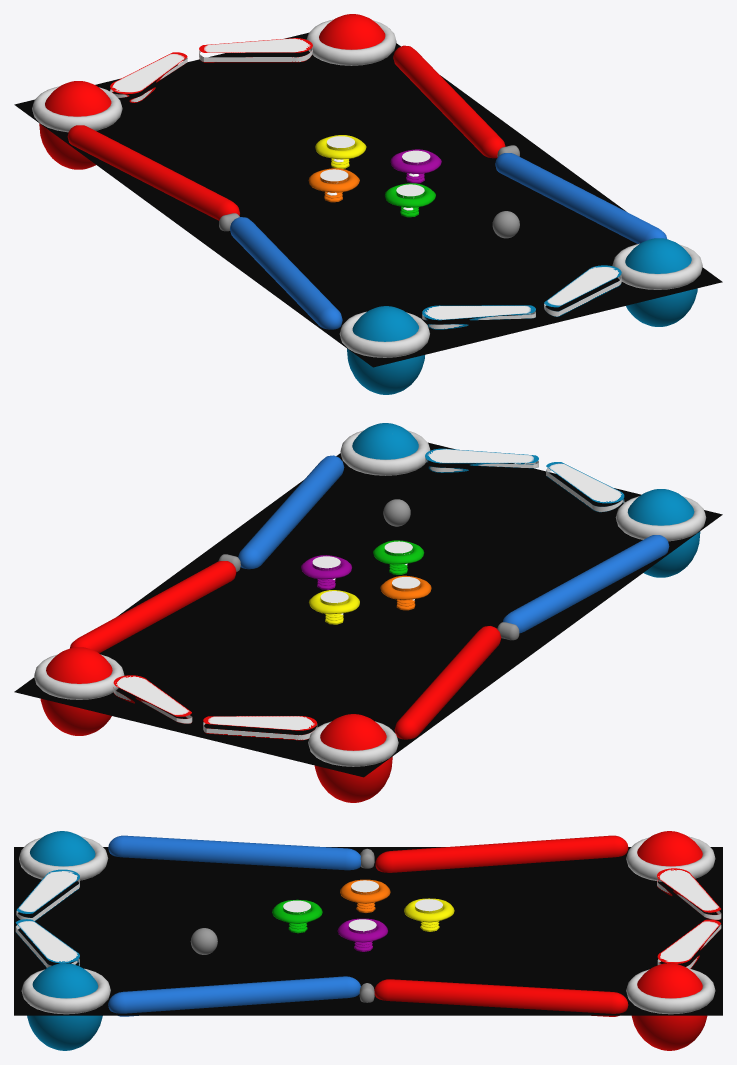
The model's file is Multi-Pinball Textures test.FBX.
The picture shows the model from 3 angles, top to bottom: view 1: azimuth 30°, elevation 25°; view 2: azimuth 150°, elevation 25°; view 3: azimuth 270°, elevation 25°; orthographic projection.
Parts seen in each view (by area): view 1: Plane003, Plane001, Plane002, Flipper Button Original008, Flipper Button Original007, Flipper Button Original006, Capsule003, Capsule001, Capsule002, Flipper Button Original005, Capsule004, Arc005 (+8 smaller); view 2: Plane003, Plane002, Plane001, Flipper Button Original006, Flipper Button Original005, Flipper Button Original008, Capsule002, Capsule004, Flipper Button Original007, Capsule003, Capsule001, Arc006 (+8 smaller); view 3: Plane003, Plane001, Plane002, Capsule004, Capsule001, Flipper Button Original007, Flipper Button Original005, Capsule002, Capsule003, Flipper Button Original008, Flipper Button Original006, Arc004 (+8 smaller).
Part boxes in pixels (left/top/right/bottom): Plane003: left=14, top=32, right=722, bottom=367; Plane001: left=376, top=234, right=593, bottom=309; Plane002: left=179, top=90, right=396, bottom=165; Flipper Button Original008: left=339, top=306, right=429, bottom=394; Flipper Button Original007: left=612, top=238, right=702, bottom=326; Flipper Button Original006: left=32, top=81, right=122, bottom=169; Capsule003: left=67, top=125, right=239, bottom=220; Capsule001: left=495, top=153, right=666, bottom=243; Capsule002: left=230, top=217, right=342, bottom=329; Flipper Button Original005: left=306, top=14, right=396, bottom=65; Capsule004: left=393, top=45, right=505, bottom=158; Arc005: left=199, top=38, right=312, bottom=62; Plane003: left=14, top=442, right=722, bottom=777; Plane002: left=175, top=621, right=393, bottom=695; Plane001: left=372, top=476, right=590, bottom=551; Flipper Button Original006: left=308, top=714, right=398, bottom=802; Flipper Button Original005: left=34, top=647, right=124, bottom=735; Flipper Button Original008: left=615, top=489, right=706, bottom=577; Capsule002: left=503, top=535, right=669, bottom=633; Capsule004: left=70, top=561, right=236, bottom=653; Flipper Button Original007: left=340, top=423, right=430, bottom=475; Capsule003: left=394, top=626, right=501, bottom=739; Capsule001: left=238, top=455, right=344, bottom=569; Arc006: left=203, top=716, right=317, bottom=740; Plane003: left=14, top=847, right=722, bottom=1015; Plane001: left=96, top=885, right=186, bottom=969; Plane002: left=486, top=885, right=575, bottom=969; Capsule004: left=374, top=979, right=628, bottom=1016; Capsule001: left=108, top=976, right=360, bottom=1016; Flipper Button Original007: left=21, top=963, right=110, bottom=1050; Flipper Button Original005: left=626, top=963, right=715, bottom=1050; Capsule002: left=108, top=835, right=360, bottom=870; Capsule003: left=375, top=835, right=628, bottom=872; Flipper Button Original008: left=19, top=831, right=108, bottom=880; Flipper Button Original006: left=626, top=831, right=715, bottom=881; Arc004: left=16, top=869, right=79, bottom=921.
Bounding box in the file's own units: 307 × 68.65 × 542.
Materials: 13 (11 with a texture image).
